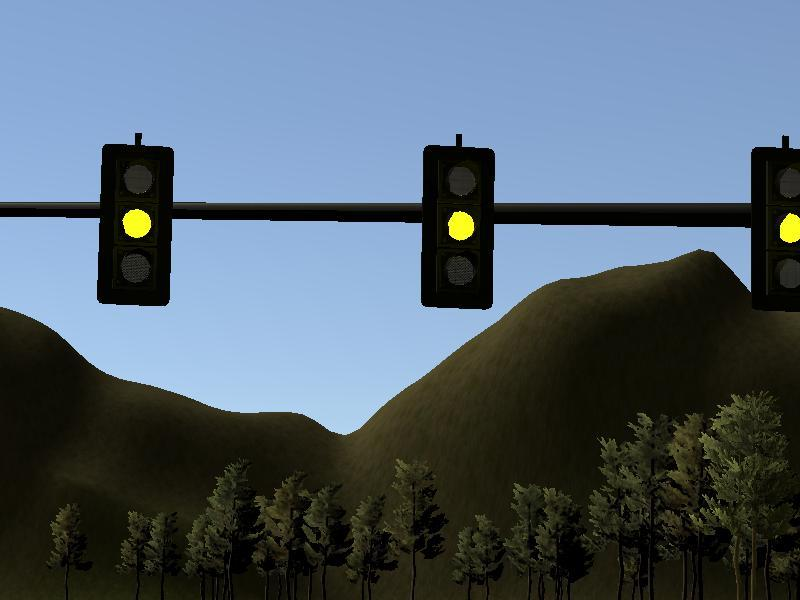Yellow: (421, 144, 496, 311), (100, 143, 174, 307), (749, 146, 800, 308)
